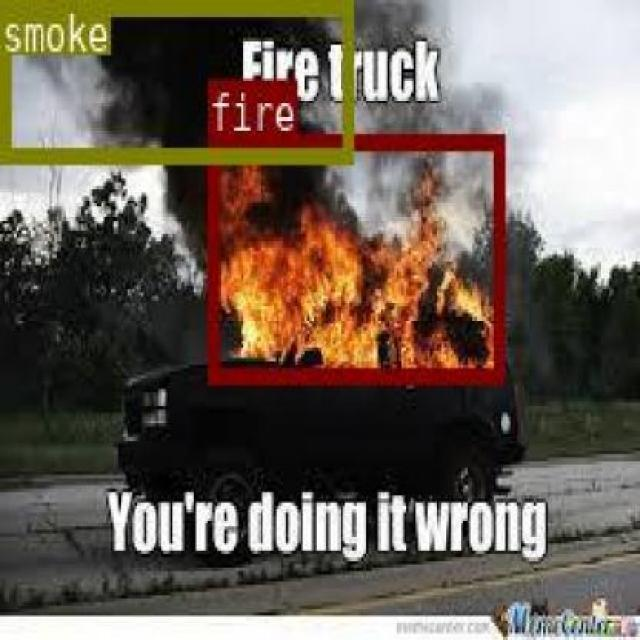Fire: (206, 131, 502, 380)
Smoke: (0, 0, 349, 158), (96, 13, 344, 154)
